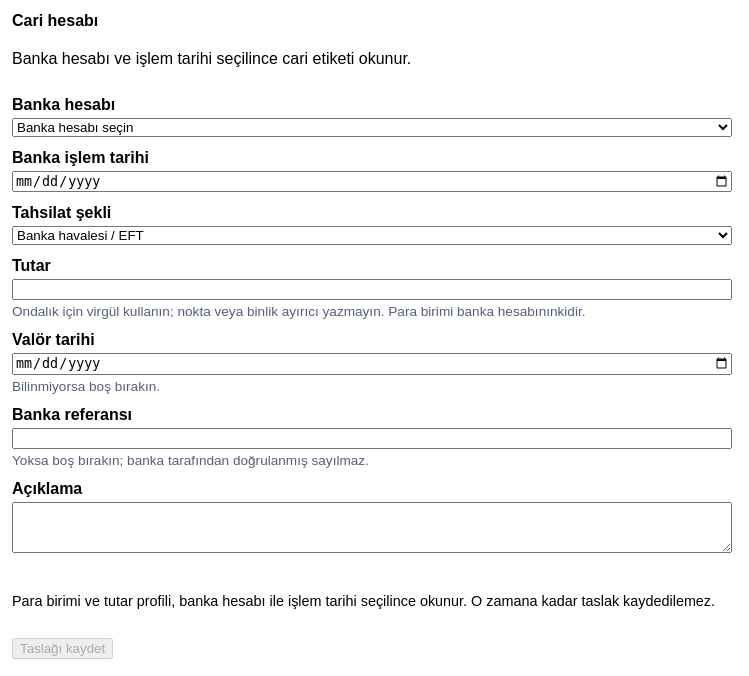
ManualReceiptDraftForm — draft read context (#261) › asks for the context only once bank and date are chosen, with exactly those values and the shell company
The width and height of the screenshot is (749, 676).
Select "SENTETIK Banka Hesabı" in the dropdown labelled "Banka hesabı" at point(372, 128), box [12,118,732,137]
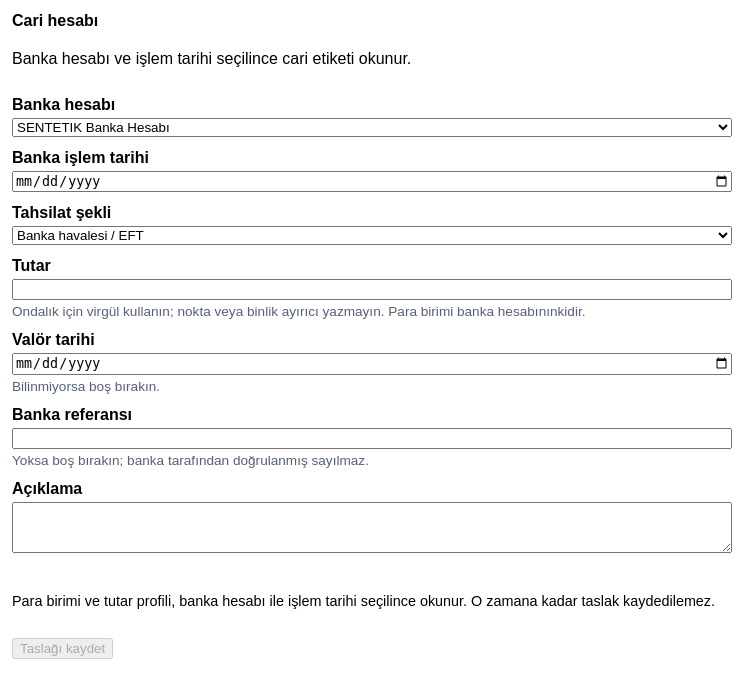
Expected: the text "Para birimi ve tutar profili, banka hesabı ile işlem tarihi seçilince okunur. O zamana kadar taslak kaydedilemez." is shown, [12,593,715,609]
Type "2026-09-13" into the date field labelled "Banka işlem tarihi" at point(372, 182), box [12,171,732,192]
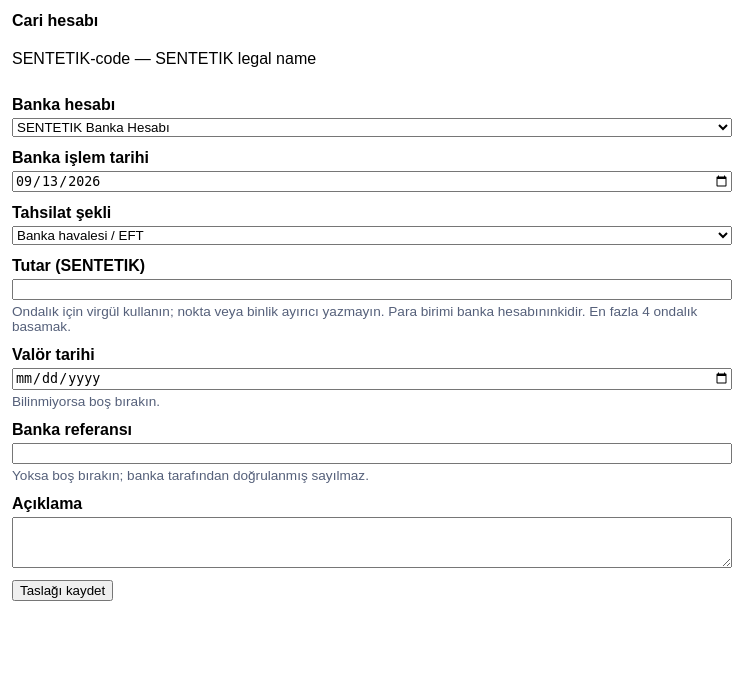
Expected: the field labelled "Tutar (SENTETIK)" is shown, [12,279,732,300]
Now the text "SENTETIK-code — SENTETIK legal name" is shown, box [12,50,316,67]
